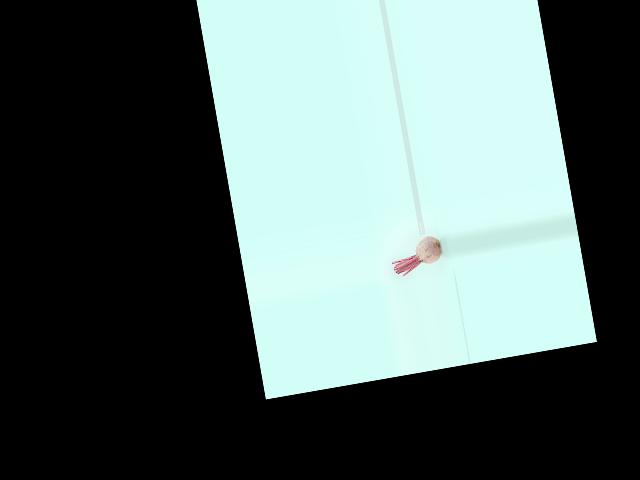beet: (388, 234, 444, 277)
